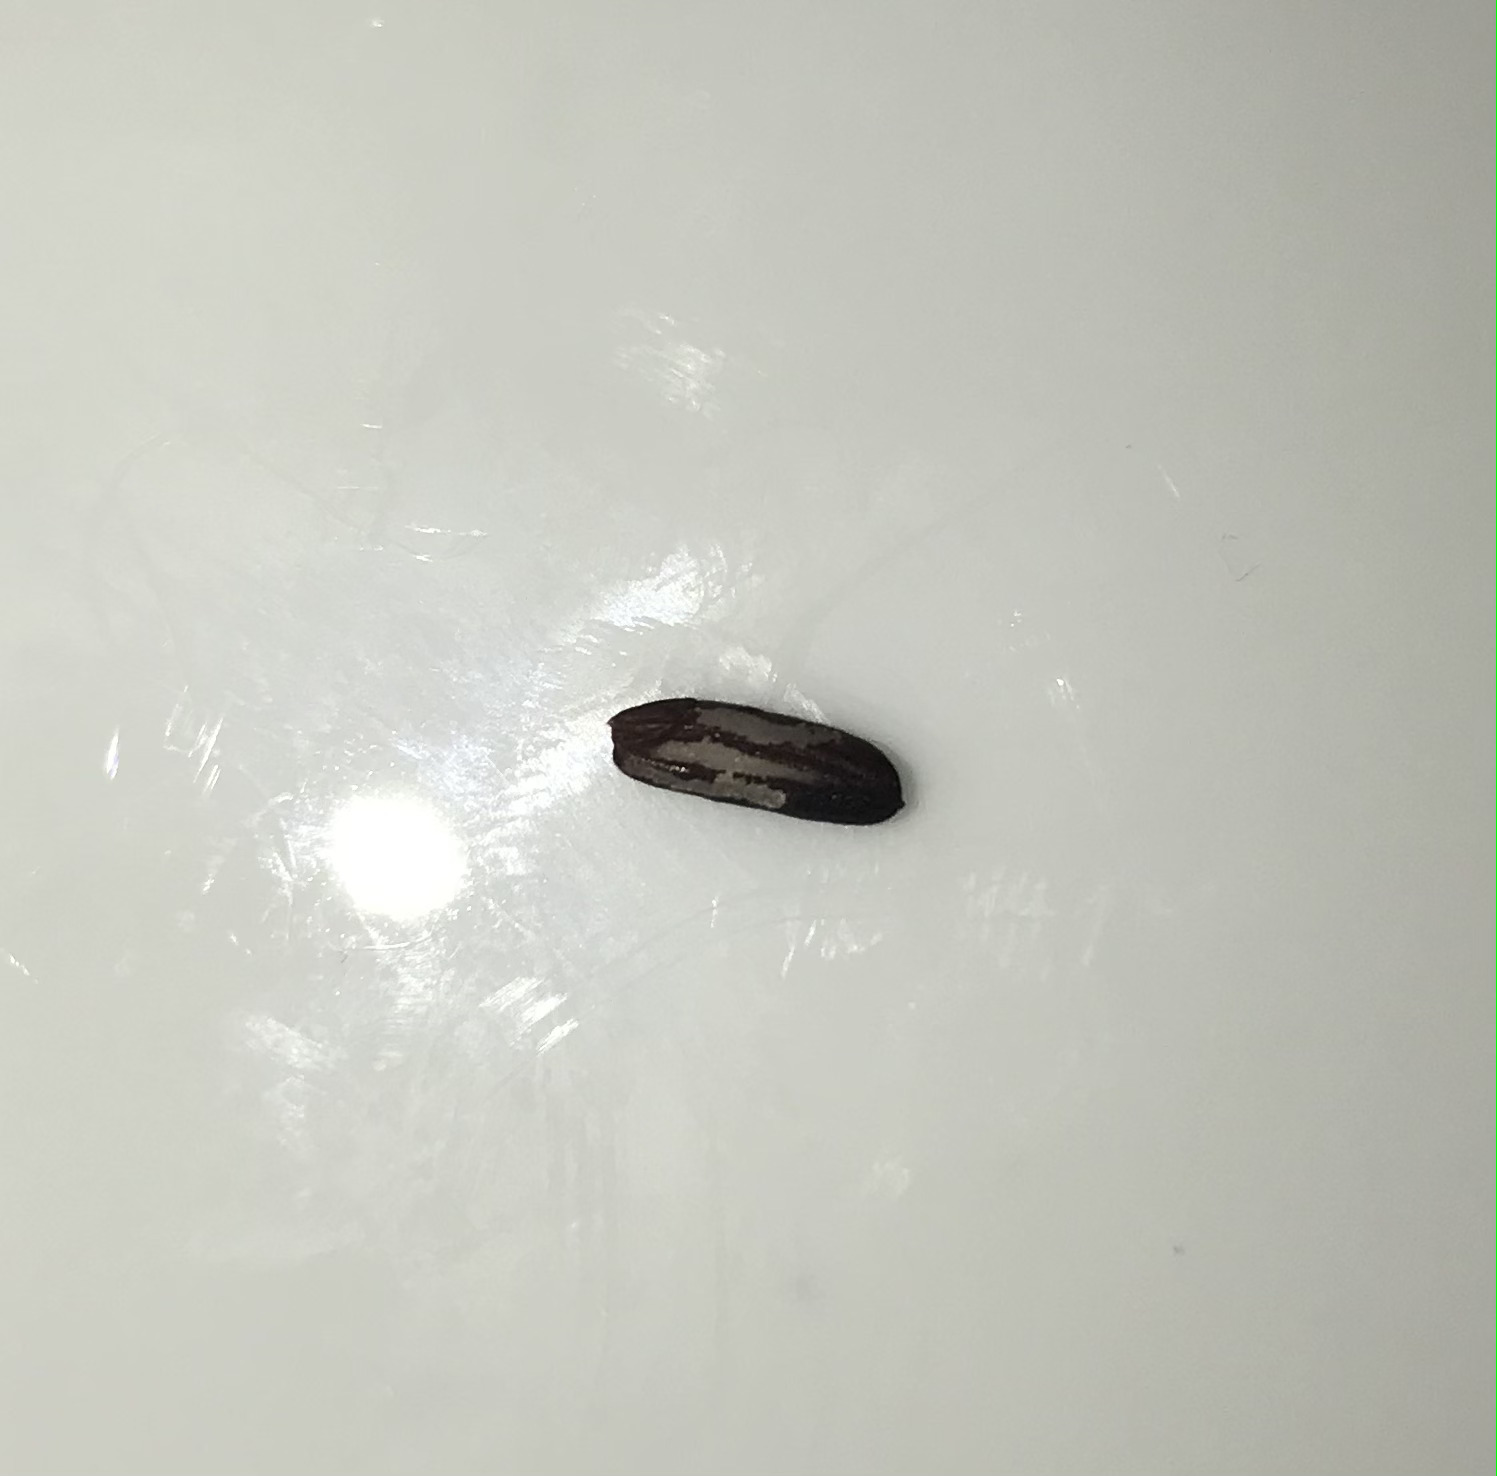Gao lut: (607, 691, 913, 843)
